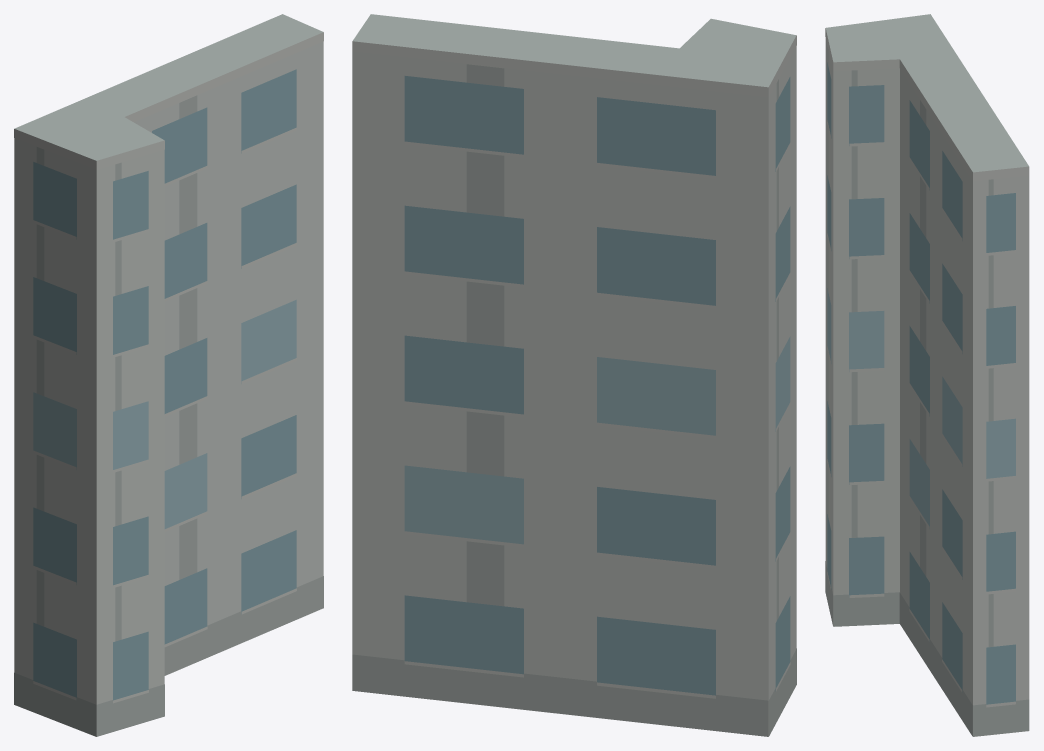
Rendered from survey-upis-32502244.glb.
The picture shows the model from 3 angles, left to right: view 1: azimuth 30°, elevation 25°; view 2: azimuth 150°, elevation 25°; view 3: azimuth 270°, elevation 25°; orthographic projection. The views are drawn at different scales.
Parts seen in each view (by area): view 1: survey-upis-32502244.tmp; view 2: survey-upis-32502244.tmp; view 3: survey-upis-32502244.tmp.
Boxes of the visible parts, x1,y1,x2,y2 form: survey-upis-32502244.tmp: (14,14,323,736); survey-upis-32502244.tmp: (352,14,796,736); survey-upis-32502244.tmp: (825,14,1029,736).
Bounding box in the file's own units: 9.19 × 15.25 × 5.
